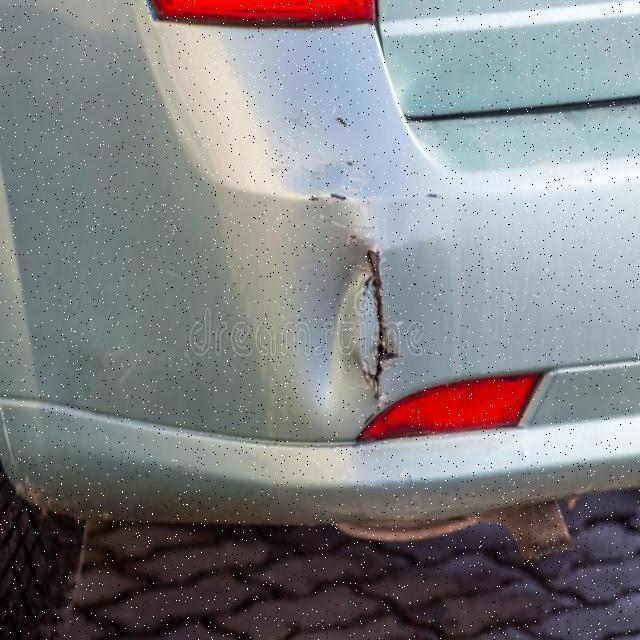rear-bumper-dent: (3, 100, 614, 514)
